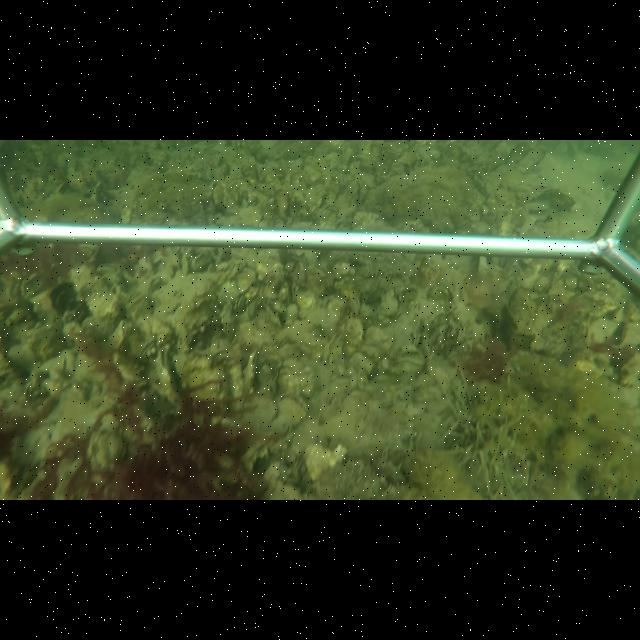Oyster-Closed: (109, 319, 130, 352), (244, 349, 257, 396), (221, 302, 236, 342)
Oyster-Open: (274, 391, 306, 431), (136, 337, 156, 362)
